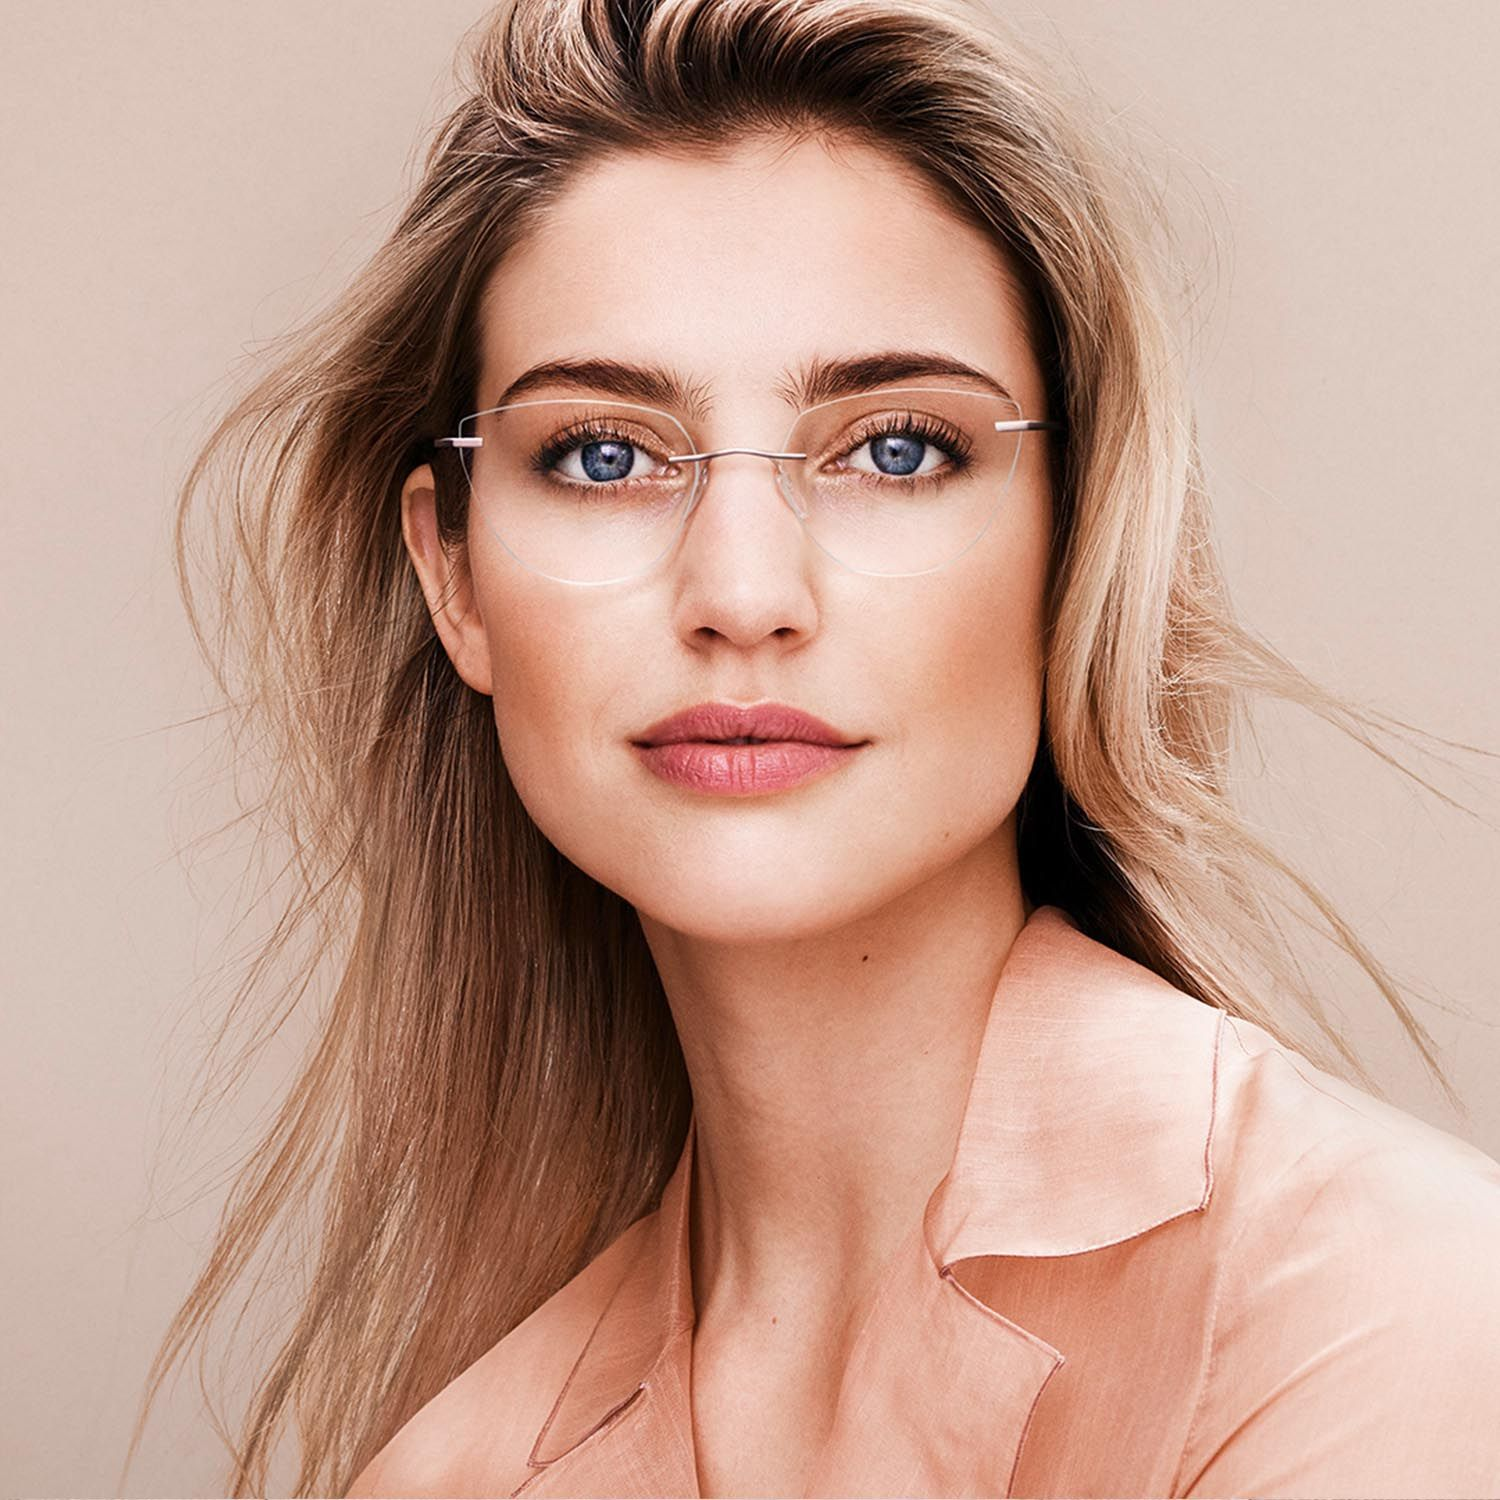llen: (777, 387, 1023, 578)
rlen: (457, 398, 701, 585)
